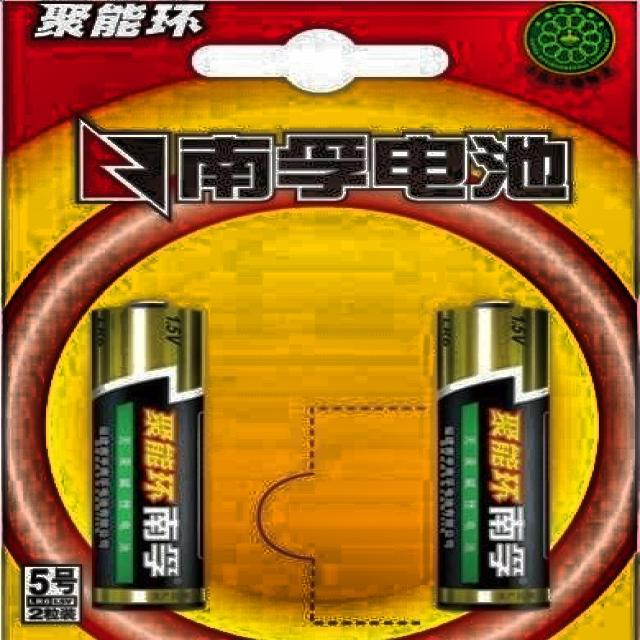Non-Valuable Waste - Batteries: (438, 302, 550, 609), (93, 302, 203, 609)
